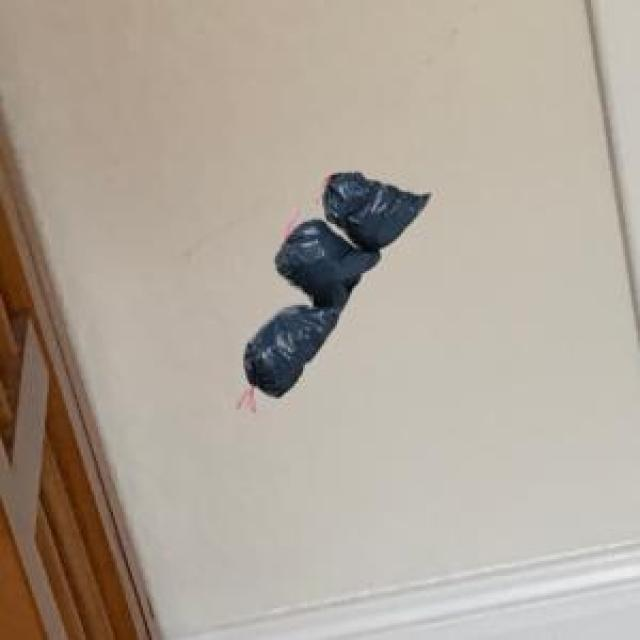waste: (244, 172, 428, 396)
